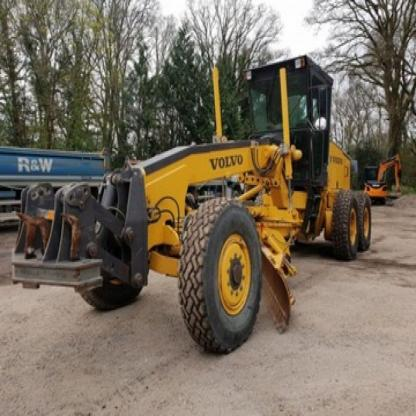bull_dozer/loader/grader: (69, 37, 379, 356)
